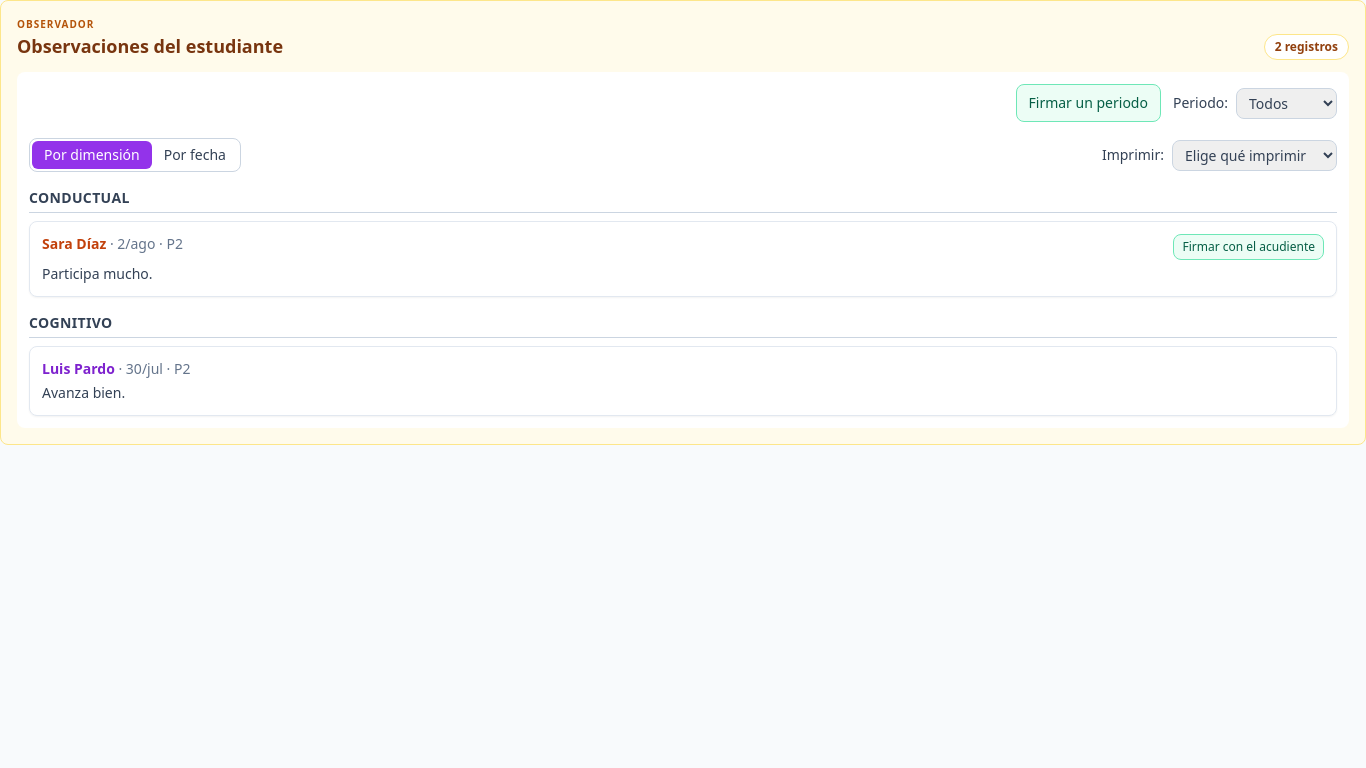
it: ObservadorEnFichaAdmin: firma del acudiente › el admin no escribe, pero sí toma la firma donde el servidor lo permite
Click the button "Firmar con el acudiente". click: click(1249, 247)
box: [1174, 234, 1324, 260]
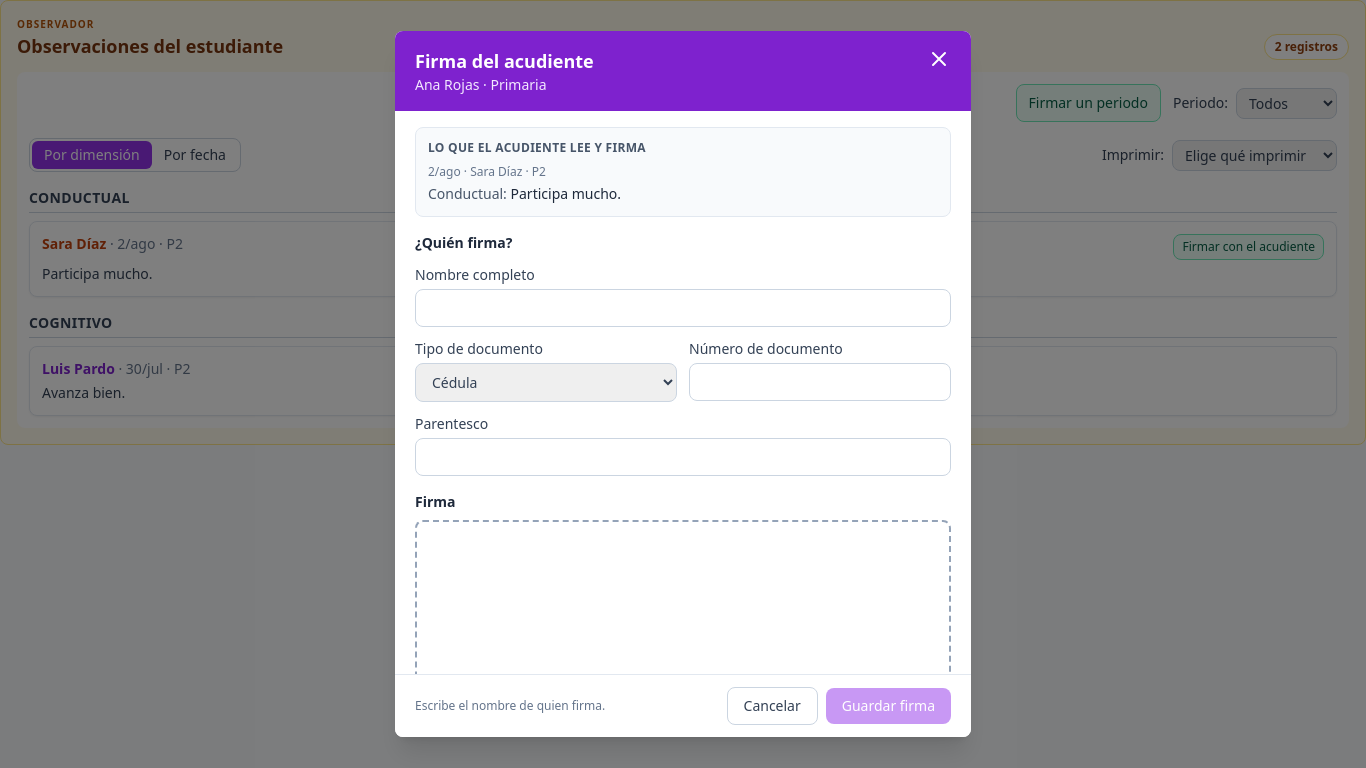
Expected: the text "Participa mucho." is shown, [510, 184, 621, 203]
